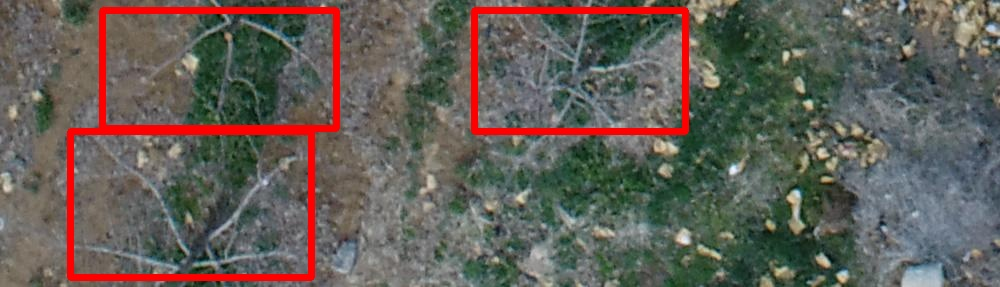apple: (70, 131, 311, 277), (102, 10, 336, 128), (474, 10, 685, 131)
